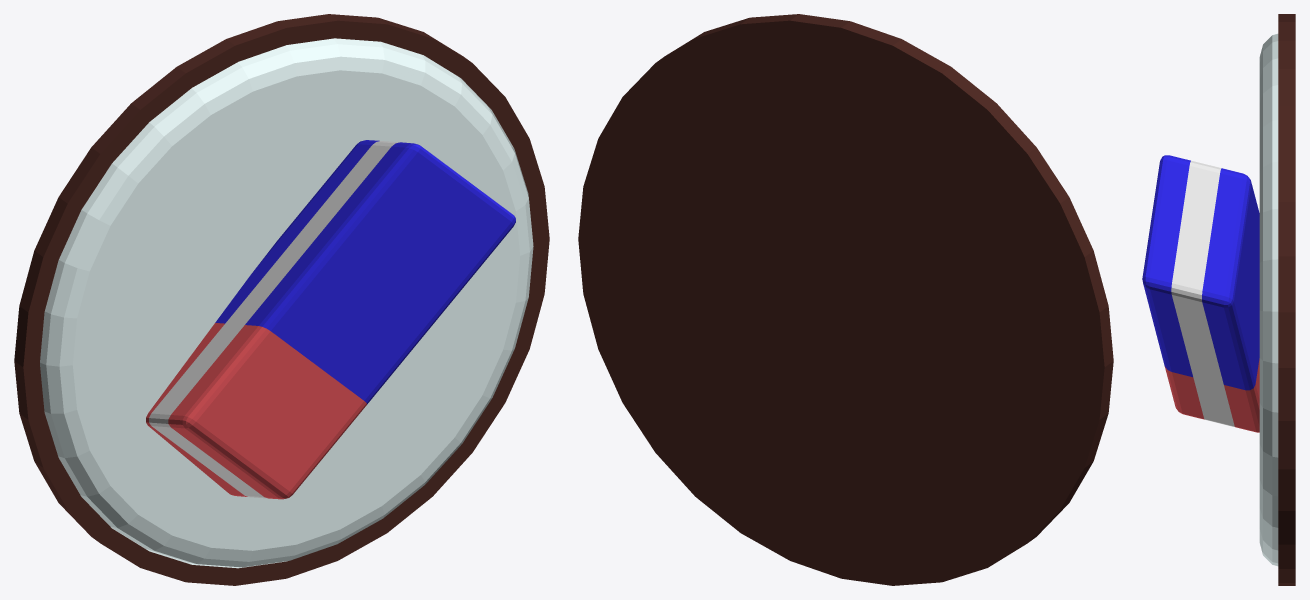
File: EraseButtonPushed.glb
3 renders of one model, left to right at view 1: azimuth 30°, elevation 25°; view 2: azimuth 150°, elevation 25°; view 3: azimuth 270°, elevation 25°, orthographic. The views are drawn at different scales.
Visible parts, largest first — view 1: Cylinder.001, Cube.004; view 2: Cylinder.001; view 3: Cube.004, Cylinder.001.
Part boxes in pixels (bbox=[...]): Cylinder.001: bbox=[14, 14, 549, 585]; Cube.004: bbox=[146, 140, 515, 499]; Cylinder.001: bbox=[578, 14, 1113, 585]; Cube.004: bbox=[1142, 155, 1259, 432]; Cylinder.001: bbox=[1259, 14, 1295, 585].
Bounding box in the file's own units: 1 × 1 × 0.2678.
